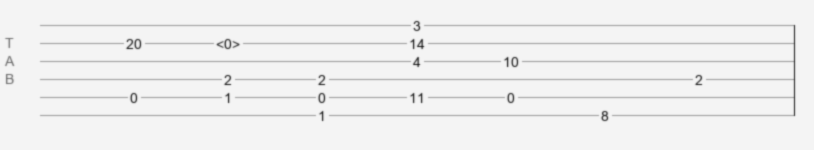0: (130, 90, 138, 100), (318, 90, 326, 100), (507, 90, 515, 100)
1: (224, 90, 232, 100), (318, 108, 326, 118)
10: (503, 54, 519, 64)
11: (409, 90, 425, 100)
14: (409, 36, 425, 46)
2: (224, 72, 232, 82), (318, 72, 326, 82), (695, 72, 703, 82)
20: (126, 36, 142, 46)
3: (413, 18, 421, 28)
4: (413, 54, 421, 64)
8: (601, 108, 609, 118)
harmonic: (216, 36, 240, 46)
